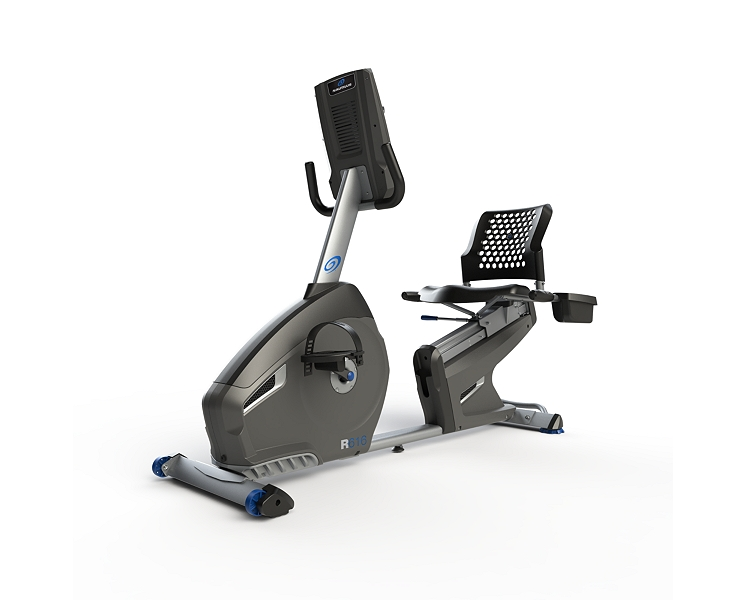gym_bike: (110, 56, 611, 522)
